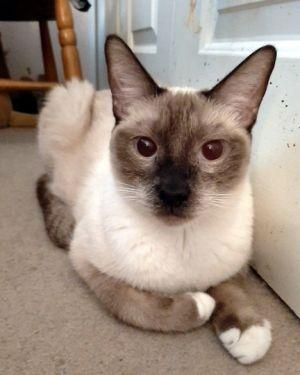siamese: (94, 34, 284, 232)
